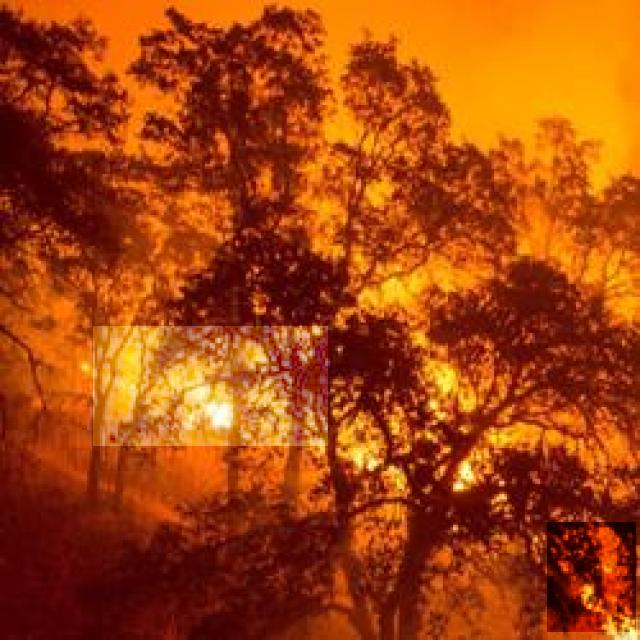Fire: (93, 326, 328, 446), (378, 408, 492, 496), (547, 522, 636, 632)
